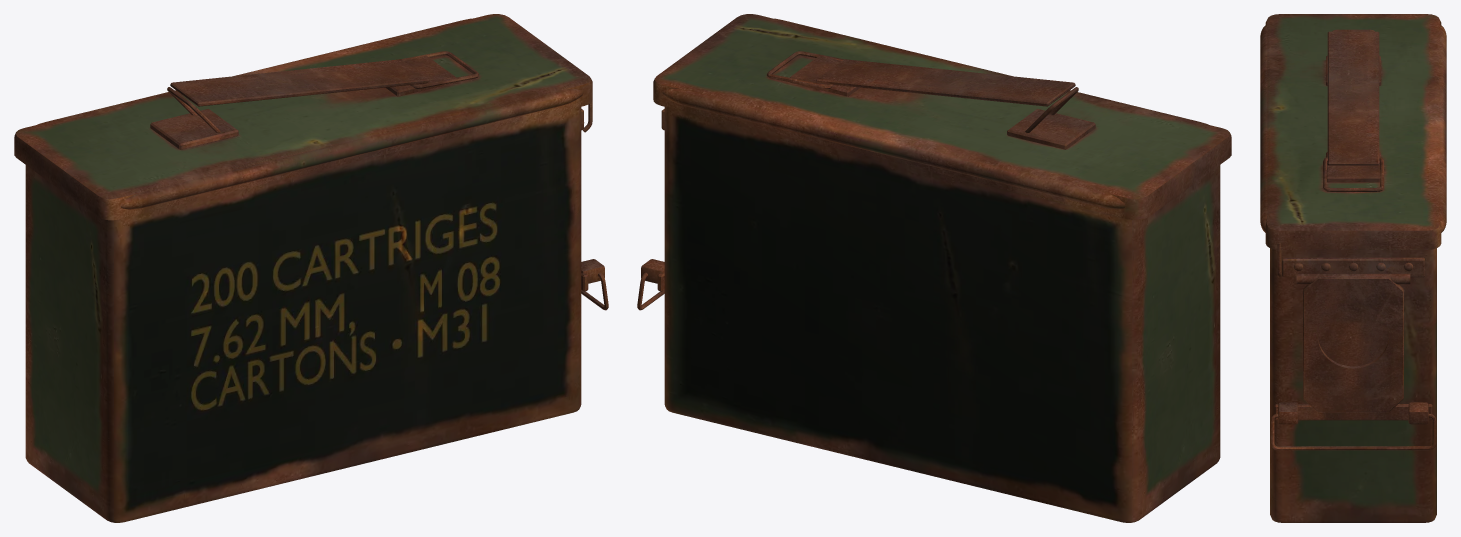
Rendered from ammo-box_final.glb.
3 renders of one model, left to right at view 1: azimuth 30°, elevation 25°; view 2: azimuth 150°, elevation 25°; view 3: azimuth 270°, elevation 25°, orthographic. The views are drawn at different scales.
Visible parts, largest first — view 1: SM_AmmoBox_Body, SM_AmmoBox_Lid, SM_AmmoBox_Handle, SM_AmmoBox_HandleBracket_L, SM_AmmoBox_HandleBracket_R; view 2: SM_AmmoBox_Body, SM_AmmoBox_Lid, SM_AmmoBox_Handle, SM_AmmoBox_HandleBracket_L, SM_AmmoBox_HandleBracket_R; view 3: SM_AmmoBox_Lid, SM_AmmoBox_Body, SM_AmmoBox_LatchLever, SM_AmmoBox_Handle, SM_AmmoBox_LatchHinge, SM_AmmoBox_LatchCatch, SM_AmmoBox_LatchBail, SM_AmmoBox_HandleBracket_R, SM_AmmoBox_HandleWire_R.
Part boxes in pixels (<box>): SM_AmmoBox_Body: <box>25,107,581,522</box>; SM_AmmoBox_Lid: <box>14,14,592,220</box>; SM_AmmoBox_Handle: <box>170,59,429,106</box>; SM_AmmoBox_HandleBracket_L: <box>150,108,238,149</box>; SM_AmmoBox_HandleBracket_R: <box>386,55,455,96</box>; SM_AmmoBox_Body: <box>664,107,1220,522</box>; SM_AmmoBox_Lid: <box>653,14,1231,220</box>; SM_AmmoBox_Handle: <box>816,59,1075,106</box>; SM_AmmoBox_HandleBracket_L: <box>1007,108,1095,149</box>; SM_AmmoBox_HandleBracket_R: <box>790,55,859,96</box>; SM_AmmoBox_Lid: <box>1260,14,1446,249</box>; SM_AmmoBox_Body: <box>1270,248,1436,522</box>; SM_AmmoBox_LatchLever: <box>1303,277,1403,412</box>; SM_AmmoBox_Handle: <box>1327,31,1379,165</box>; SM_AmmoBox_LatchHinge: <box>1282,257,1424,284</box>; SM_AmmoBox_LatchCatch: <box>1274,402,1432,424</box>; SM_AmmoBox_LatchBail: <box>1270,414,1436,450</box>; SM_AmmoBox_HandleBracket_R: <box>1326,152,1380,182</box>; SM_AmmoBox_HandleWire_R: <box>1323,157,1383,191</box>.
Bounding box in the file's own units: 0.2891 × 0.2025 × 0.1016.
3 materials, 3 textured.
